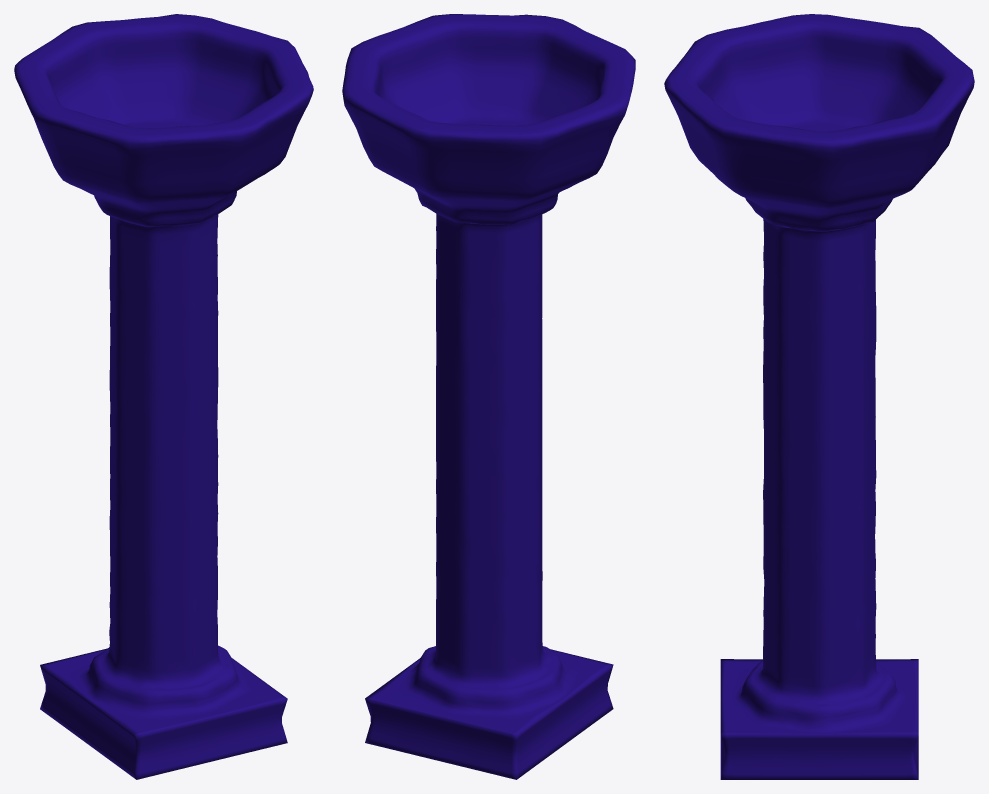
The model's file is Stone_Torch.fbx.
3 renders of one model, left to right at view 1: azimuth 30°, elevation 25°; view 2: azimuth 150°, elevation 25°; view 3: azimuth 270°, elevation 25°, orthographic. The views are drawn at different scales.
Parts seen in each view (by area): view 1: Stone Torch; view 2: Stone Torch; view 3: Stone Torch.
Part boxes in pixels (x1,y1,x2,y2): Stone Torch: [14, 14, 313, 779]; Stone Torch: [342, 14, 635, 779]; Stone Torch: [664, 14, 974, 779].
Bounding box in the file's own units: 8.5 × 20.01 × 8.47.
